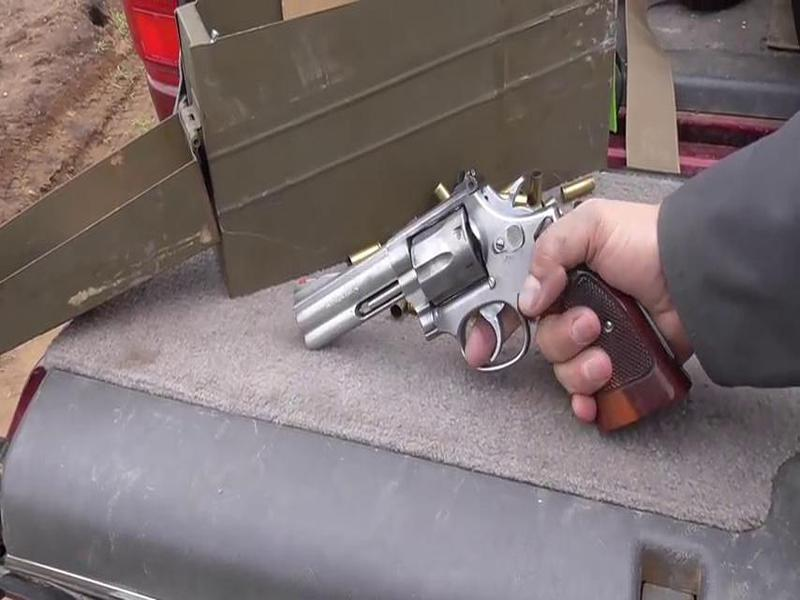Revolver: (274, 175, 688, 443)
